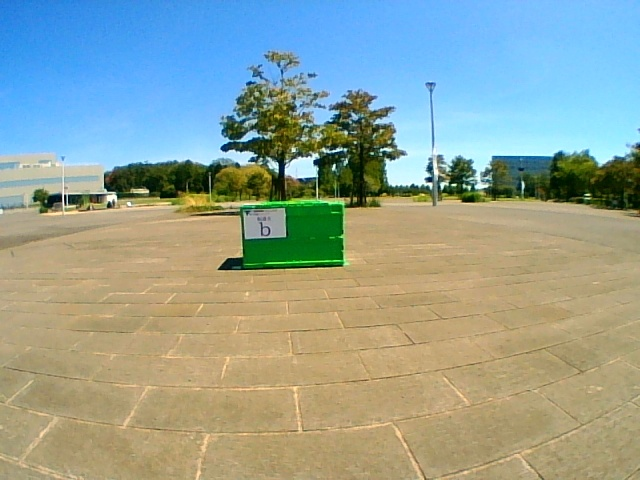green_box: (240, 201, 346, 266)
tag_b: (245, 210, 286, 237)
